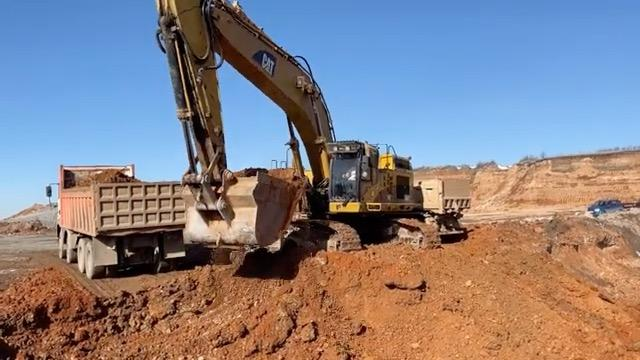excavator: (157, 0, 423, 245)
